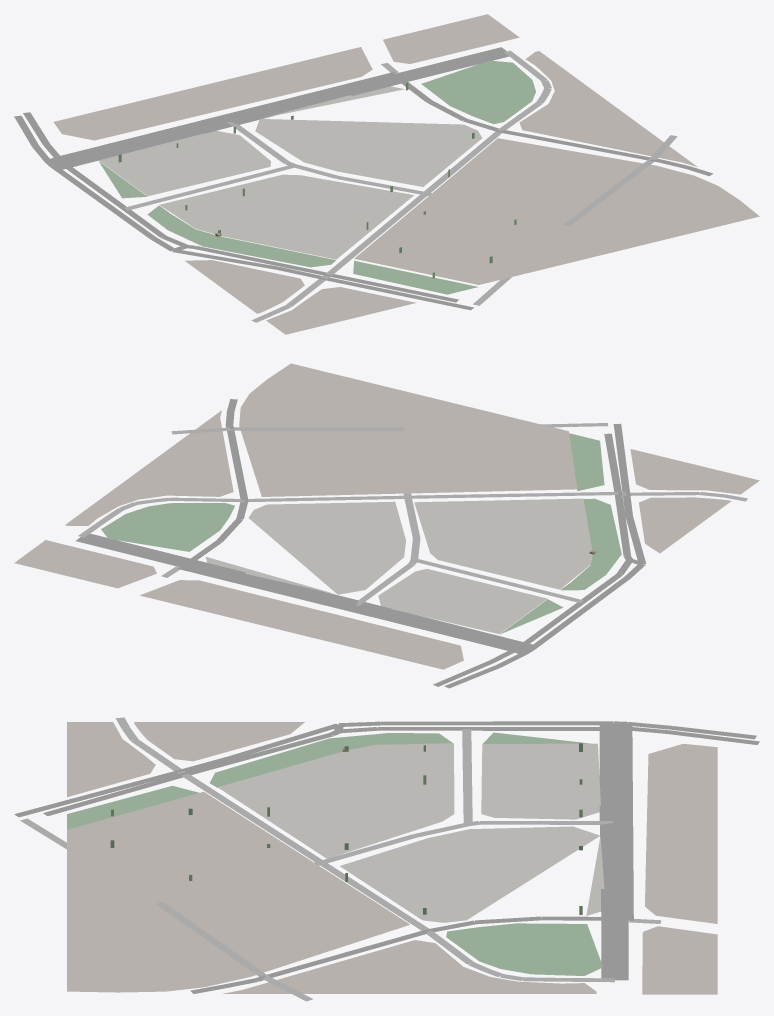
3 renders of one model, top to bottom at view 1: azimuth 30°, elevation 25°; view 2: azimuth 150°, elevation 25°; view 3: azimuth 270°, elevation 25°, orthographic. The views are drawn at different scales.
Bounding box in the file's own units: 527 × 11.17 × 573.
